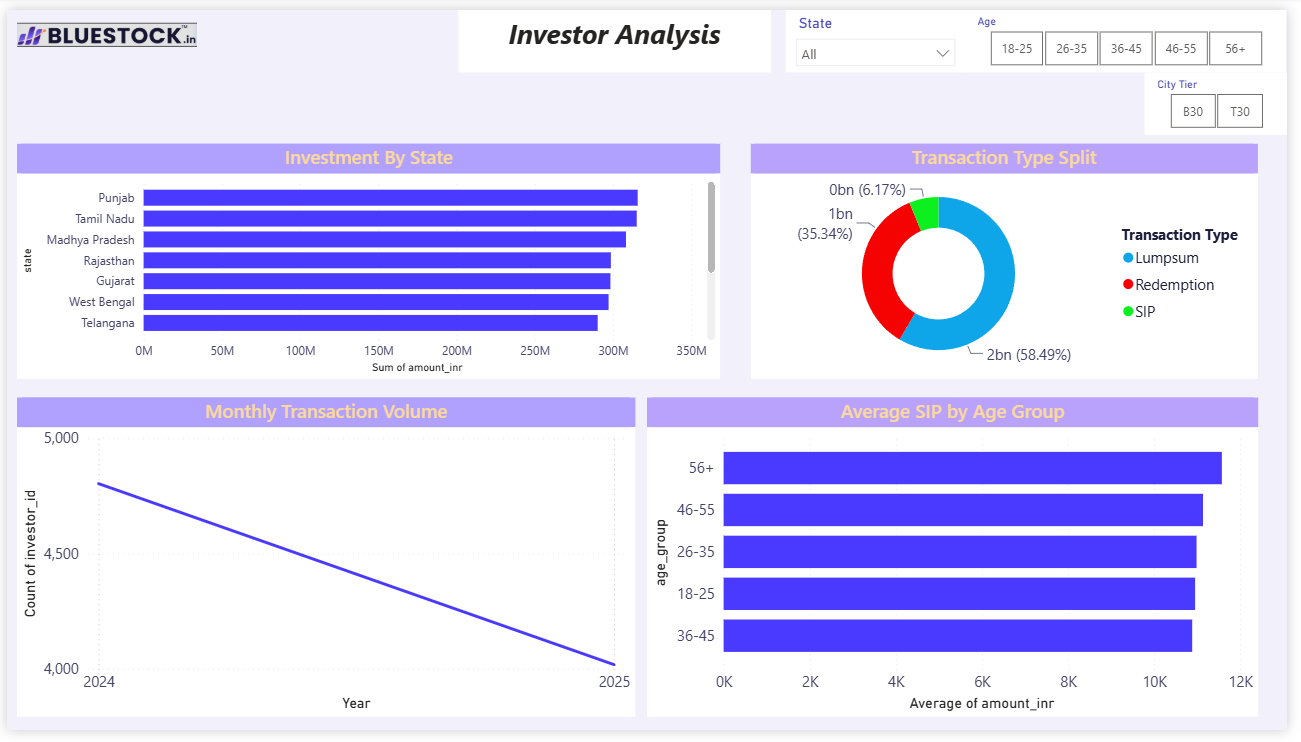

What the dashboard file says about the page in this screenshot:
{"tool":"powerbi","page":{"name":"Page 3","canvas":[1280,720],"ordinal":2},"visuals":[{"type":"image","box":[10,0,180,50],"z":0},{"type":"textbox","box":[451.1,0,312.5,62.5],"z":1},{"type":"slicer","fields":{"Values":["fact_transactions.state"]},"box":[778.4,0,179.5,62.5],"z":2},{"type":"slicer","fields":{"Values":["fact_transactions.age_group"]},"box":[958,0,321.6,62.5],"z":3},{"type":"slicer","fields":{"Values":["fact_transactions.city_tier"]},"box":[1137.5,62.5,142,62.5],"z":4},{"type":"clusteredBarChart","title":"Investment By State","fields":{"Category":["fact_transactions.state"],"Y":["Sum(fact_transactions.amount_inr)"]},"box":[10.2,134.1,703.4,235.2],"z":5},{"type":"donutChart","title":"Transaction Type Split","fields":{"Category":["fact_transactions.transaction_type"],"Y":["Sum(fact_transactions.amount_inr)"]},"box":[744.3,134.1,506.8,235.2],"z":6},{"type":"clusteredBarChart","title":"Average SIP by Age Group","fields":{"Category":["fact_transactions.age_group"],"Y":["Avg(fact_transactions.amount_inr)"]},"box":[639.8,387.5,611.4,319.3],"z":7},{"type":"lineChart","title":"Monthly Transaction Volume","fields":{"Category":["fact_transactions.transaction_date.Variation.Date Hierarchy.Year","fact_transactions.transaction_date.Variation.Date Hierarchy.Quarter","fact_transactions.transaction_date.Variation.Date Hierarchy.Month"],"Y":["Count(fact_transactions.investor_id)"]},"box":[10.2,387.5,618.2,319.3],"z":8}]}

Visuals, with their boxes in screenshot pixels (x1, y1, x2, y2), scaled from the page's 1280x720 canvas onto the 1301x742 screenshot:
image: 10/0/193/52
textbox: 459/0/776/64
slicer - fact_transactions.state: 791/0/974/64
slicer - fact_transactions.age_group: 974/0/1300/64
slicer - fact_transactions.city_tier: 1156/64/1300/129
"Investment By State" clusteredBarChart: 10/138/725/381
"Transaction Type Split" donutChart: 757/138/1272/381
"Average SIP by Age Group" clusteredBarChart: 650/399/1272/728
"Monthly Transaction Volume" lineChart: 10/399/639/728
